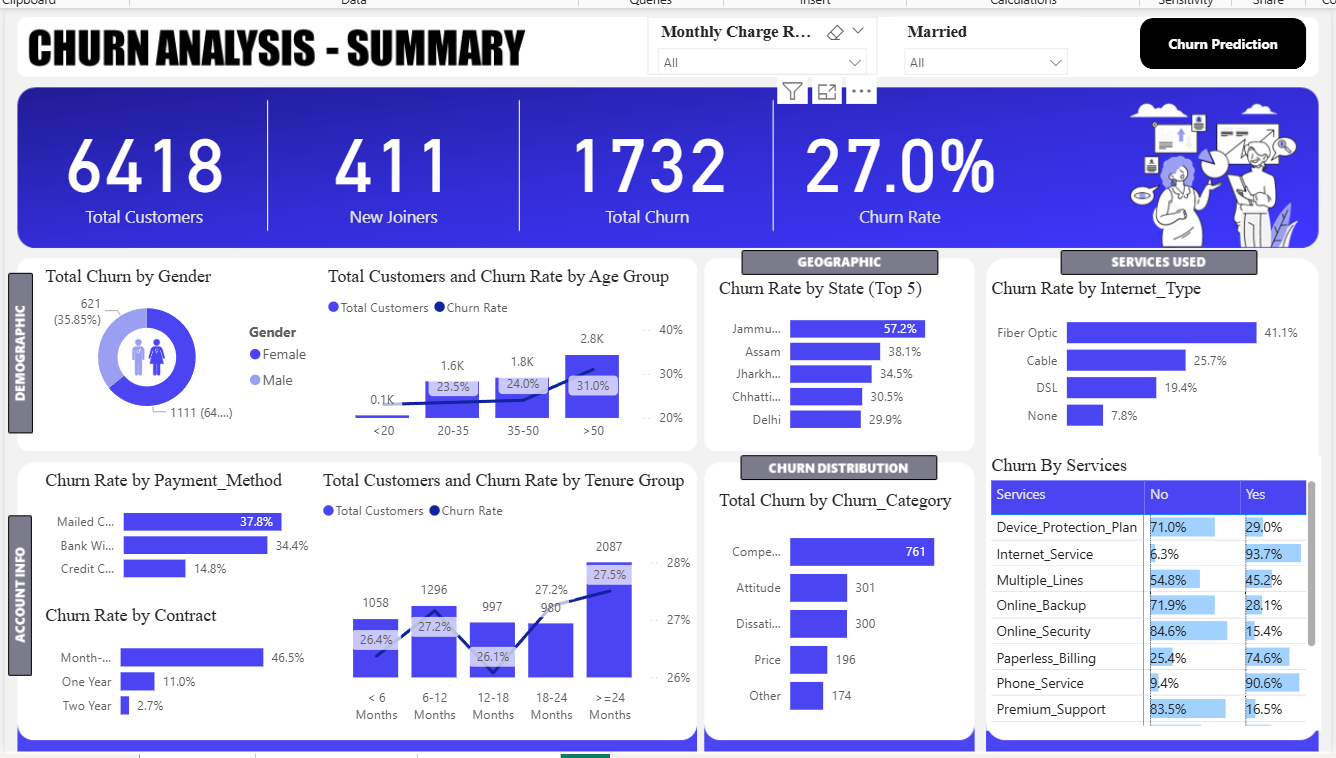

This screenshot's page, from the dashboard's own definition file:
{"tool":"powerbi","page":{"name":"Summary","canvas":[1280,720],"ordinal":0},"visuals":[{"type":"image","box":[111,308.8,55.5,55.5],"z":0},{"type":"card","fields":{"Values":["tbi_Table.New Joiners"]},"box":[270.2,92.9,209.9,119.4],"z":1000},{"type":"card","fields":{"Values":["tbi_Table.Total Customers"]},"box":[33.8,92.9,201.5,119.4],"z":2000},{"type":"card","fields":{"Values":["tbi_Table.Total Churn"]},"box":[520,92.9,200.3,119.4],"z":3000},{"type":"card","fields":{"Values":["tbi_Table.Churn Rate"]},"box":[761.3,92.9,205.1,119.4],"z":4000},{"type":"donutChart","fields":{"Y":["tbi_Table.Total Churn"],"Category":["prod_Churn.Gender"]},"box":[33.8,249.7,272.7,155.6],"z":5000},{"type":"lineStackedColumnComboChart","fields":{"Y":["tbi_Table.Total Customers"],"Y2":["tbi_Table.Churn Rate"],"Category":["mapping_AgeGrp.Age Group"]},"box":[306.4,249.7,353.5,176.1],"z":6000},{"type":"clusteredBarChart","fields":{"Category":["prod_Churn.Payment_Method"],"Y":["tbi_Table.Churn Rate"]},"box":[33.8,446.4,272.7,118.2],"z":7000},{"type":"clusteredBarChart","fields":{"Category":["prod_Churn.Contract"],"Y":["tbi_Table.Churn Rate"]},"box":[33.8,576.7,260.6,120.6],"z":8000},{"type":"lineStackedColumnComboChart","fields":{"Category":["mapping_TenureGrp.Tenure Group"],"Y":["tbi_Table.Total Customers"],"Y2":["tbi_Table.Churn Rate"]},"box":[301.6,446.4,365.6,250.9],"z":9000},{"type":"clusteredBarChart","title":"Churn Rate by State (Top 5)","fields":{"Category":["prod_Churn.State"],"Y":["tbi_Table.Churn Rate"]},"box":[684.1,260.6,242.5,159.3],"z":10000},{"type":"clusteredBarChart","fields":{"Category":["prod_Churn.Churn_Category"],"Y":["tbi_Table.Total Churn"]},"box":[684.1,465.7,242.5,231.6],"z":11000},{"type":"clusteredBarChart","fields":{"Category":["prod_Churn.Internet_Type"],"Y":["tbi_Table.Churn Rate"]},"box":[947.1,260.6,312.5,159.3],"z":12000},{"type":"pivotTable","title":"Churn By Services","fields":{"Rows":["prod_service.Services"],"Columns":["prod_service.Status"],"Values":["Sum(prod_service.churn_status)"]},"box":[947.1,431.9,323.3,265.4],"z":13000},{"type":"slicer","fields":{"Values":["prod_Churn.monthly_charge_status"]},"box":[620.2,8.2,222.3,56.3],"z":14000},{"type":"slicer","fields":{"Values":["prod_Churn.Married"]},"box":[857.6,8.2,178.4,56.3],"z":15000},{"type":"shape","box":[1095,9.6,160.5,49.4],"z":16000}]}

Visuals, with their boxes on the page's 1280x720 design canvas (x1, y1, x2, y2). These are canvas units, not pixel positions in the 1336x758 screenshot, which may show the page scaled, cropped or inside an application window:
image: detection(111, 309, 166, 364)
card - tbi_Table.New Joiners: detection(270, 93, 480, 212)
card - tbi_Table.Total Customers: detection(34, 93, 235, 212)
card - tbi_Table.Total Churn: detection(520, 93, 720, 212)
card - tbi_Table.Churn Rate: detection(761, 93, 966, 212)
donutChart - tbi_Table.Total Churn x prod_Churn.Gender: detection(34, 250, 306, 405)
lineStackedColumnComboChart - tbi_Table.Total Customers x tbi_Table.Churn Rate: detection(306, 250, 660, 426)
clusteredBarChart - prod_Churn.Payment_Method x tbi_Table.Churn Rate: detection(34, 446, 306, 565)
clusteredBarChart - prod_Churn.Contract x tbi_Table.Churn Rate: detection(34, 577, 294, 697)
lineStackedColumnComboChart - mapping_TenureGrp.Tenure Group x tbi_Table.Total Customers: detection(302, 446, 667, 697)
"Churn Rate by State (Top 5)" clusteredBarChart: detection(684, 261, 927, 420)
clusteredBarChart - prod_Churn.Churn_Category x tbi_Table.Total Churn: detection(684, 466, 927, 697)
clusteredBarChart - prod_Churn.Internet_Type x tbi_Table.Churn Rate: detection(947, 261, 1260, 420)
"Churn By Services" pivotTable: detection(947, 432, 1270, 697)
slicer - prod_Churn.monthly_charge_status: detection(620, 8, 842, 64)
slicer - prod_Churn.Married: detection(858, 8, 1036, 64)
shape: detection(1095, 10, 1256, 59)
